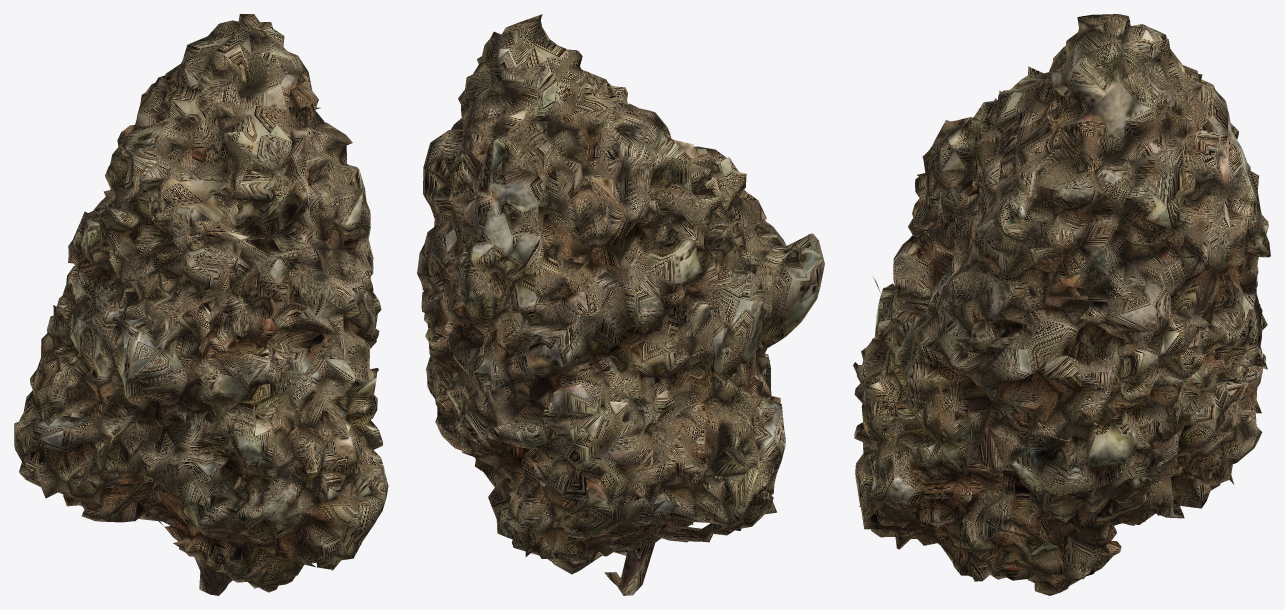
File: hero-bud.glb
3 views of the same model, side by side, from view 1: azimuth 30°, elevation 25°; view 2: azimuth 150°, elevation 25°; view 3: azimuth 270°, elevation 25° (orthographic). The views are drawn at different scales.
Bounding box in the file's own units: 19.53 × 31.64 × 19.95.
Materials: 1 (1 with a texture image).
